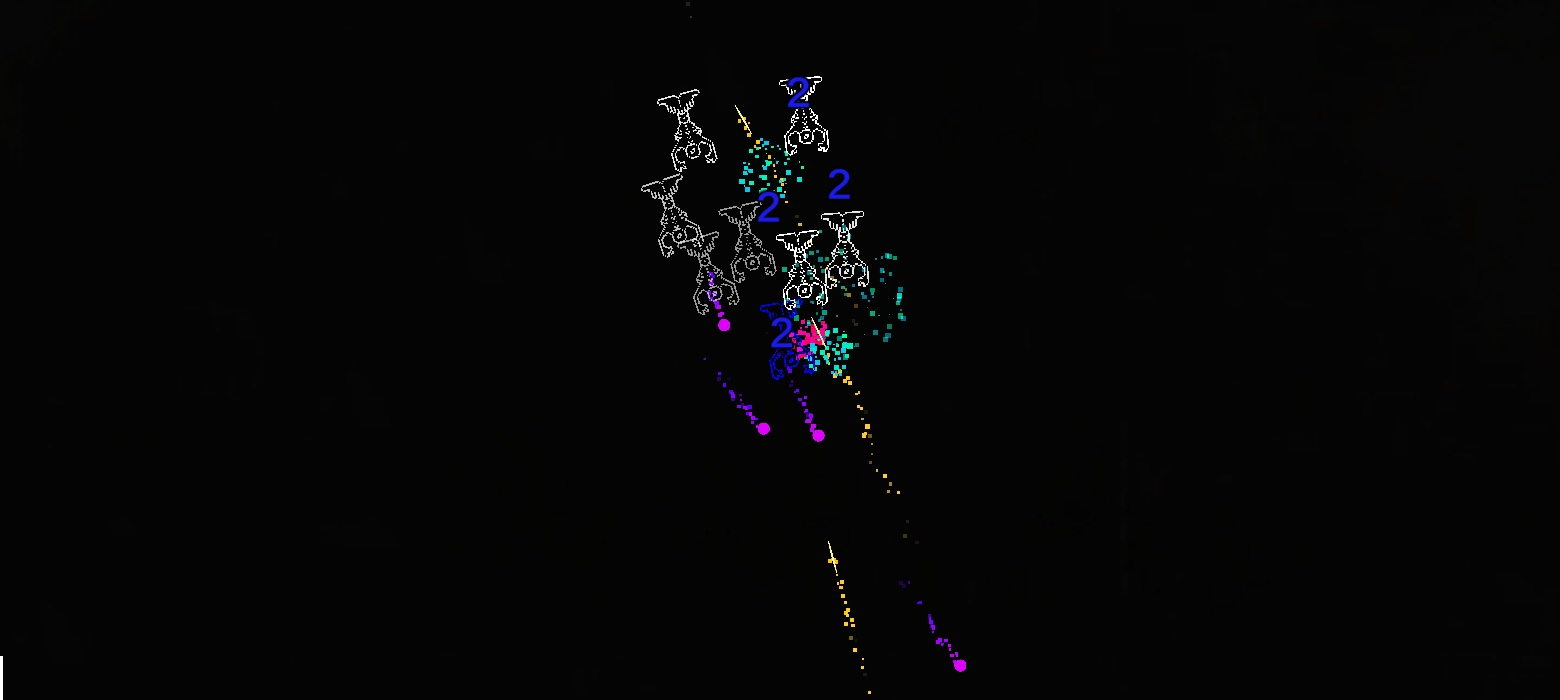enemy: (640, 173, 704, 258), (656, 87, 719, 173), (677, 231, 740, 314), (718, 200, 776, 283), (760, 298, 816, 379), (776, 229, 829, 311), (778, 76, 830, 156), (821, 210, 869, 289)
